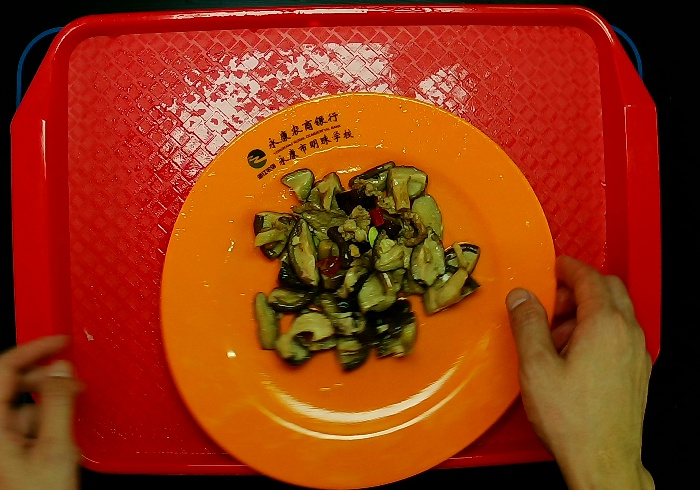YKMZ-Ju_Se_Mian_Pan: (158, 90, 559, 490)
